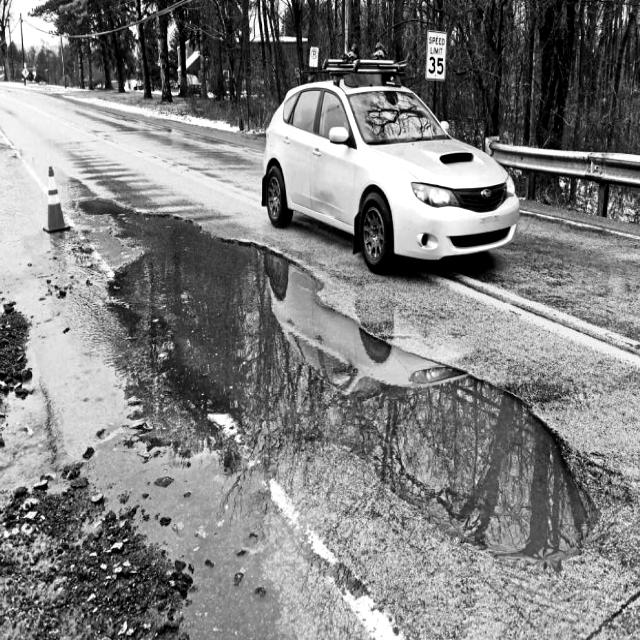pathole: (38, 180, 565, 637), (110, 213, 592, 562)
